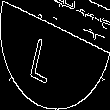L_N: (40, 26, 70, 84)
